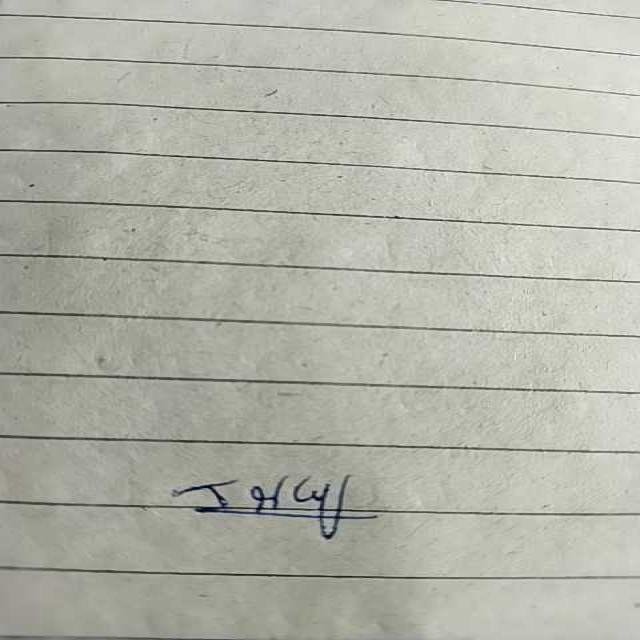signature: (152, 464, 386, 534)
